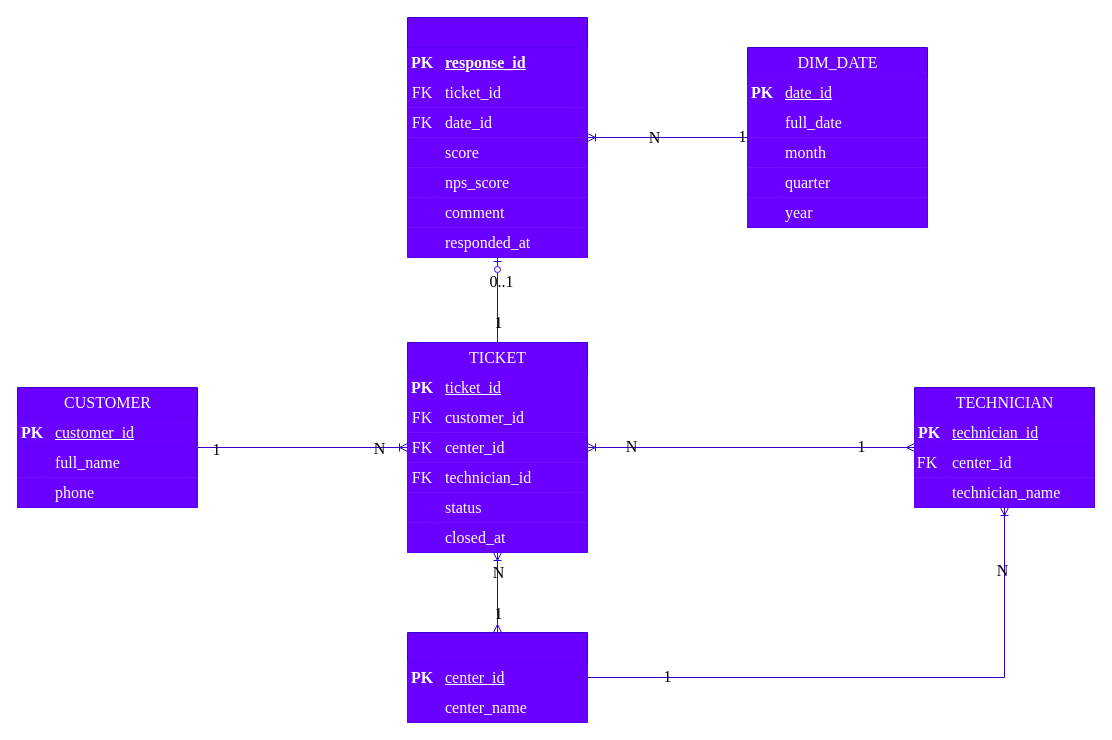
This 1112x740 diagram has some shape labels left out. The box of each missing label's shape, as (x1, y1, x2, y2) in pixels:
SERVICE_CENTER: (406, 632, 588, 722)
SURVEY_RESPONSE: (406, 16, 588, 258)
